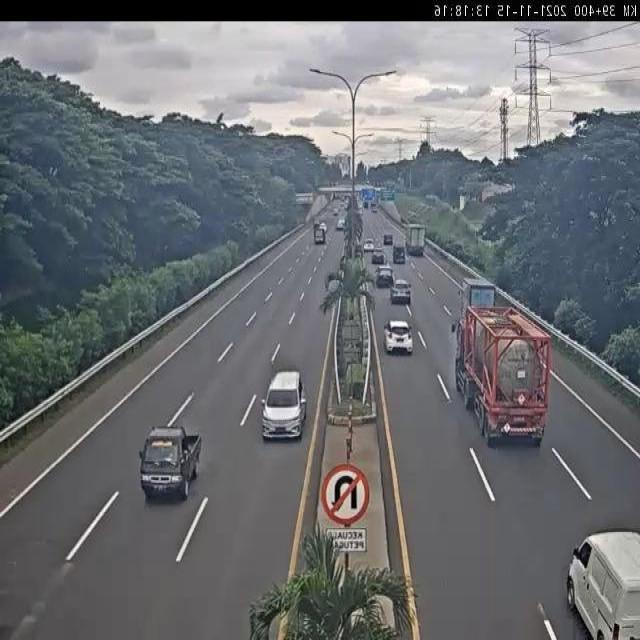Car: (140, 424, 201, 501), (262, 372, 306, 440), (384, 320, 413, 354), (390, 280, 411, 301), (377, 266, 392, 287), (392, 244, 404, 264), (372, 248, 385, 264), (364, 238, 373, 251), (384, 234, 393, 245), (336, 219, 344, 231), (319, 222, 328, 232)
Truck: (455, 304, 550, 446), (463, 277, 495, 310), (406, 224, 424, 253), (315, 229, 324, 244)
Van: (567, 530, 640, 640)
